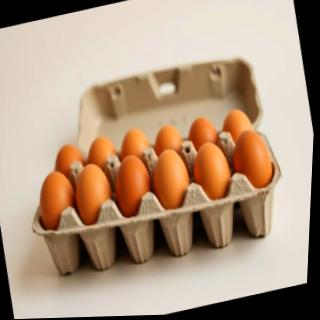Egg: (145, 141, 199, 222), (190, 130, 244, 210), (30, 169, 84, 249), (225, 117, 278, 198), (107, 150, 160, 230), (69, 154, 122, 234), (183, 110, 230, 176), (147, 117, 194, 178), (114, 125, 162, 183), (49, 134, 95, 193), (220, 101, 264, 162), (83, 133, 128, 189)
